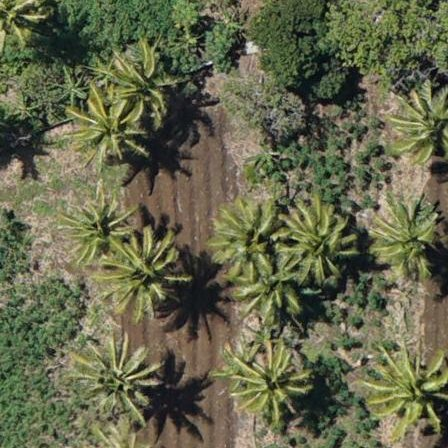palm_tree: (103, 228, 187, 317), (72, 329, 155, 417), (276, 207, 357, 292), (366, 342, 446, 427), (367, 196, 447, 281), (205, 201, 282, 283), (57, 196, 130, 273), (70, 92, 142, 168), (104, 49, 180, 119), (237, 347, 307, 422), (393, 84, 448, 164)
